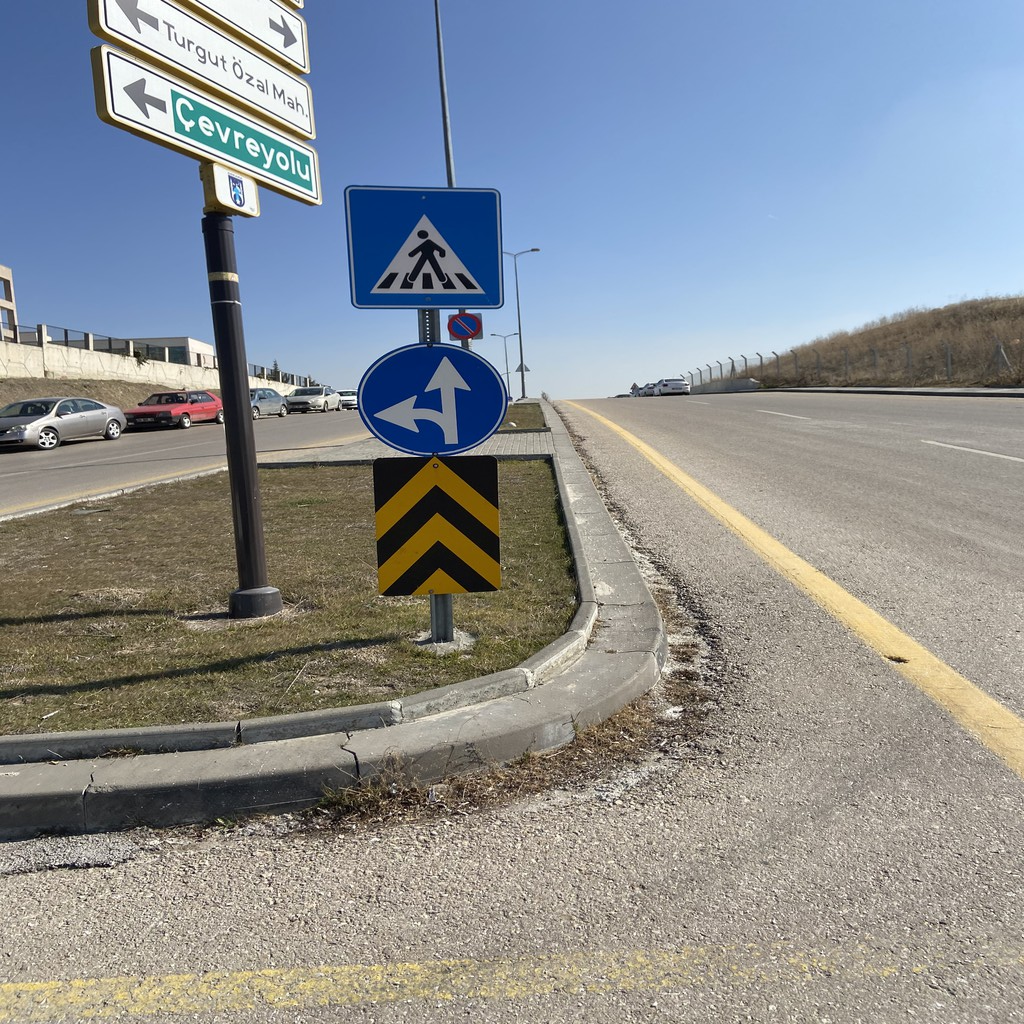Yaya Gecidi: (352, 186, 514, 305)
ileri ve Sola Mecburi Don: (354, 334, 505, 456)
